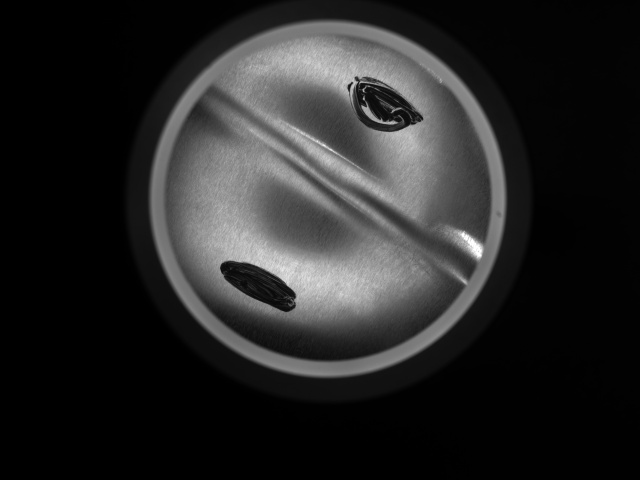zang_wu: (341, 73, 424, 135), (217, 258, 300, 313)
zhe_zhou: (206, 68, 447, 329)
